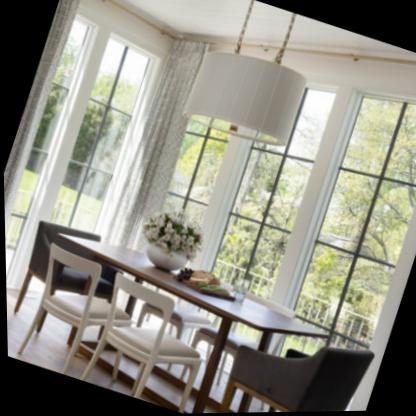Curtains: (105, 42, 206, 252), (3, 0, 81, 237)
Dining Table: (4, 216, 379, 416)
Window: (288, 90, 416, 347)
